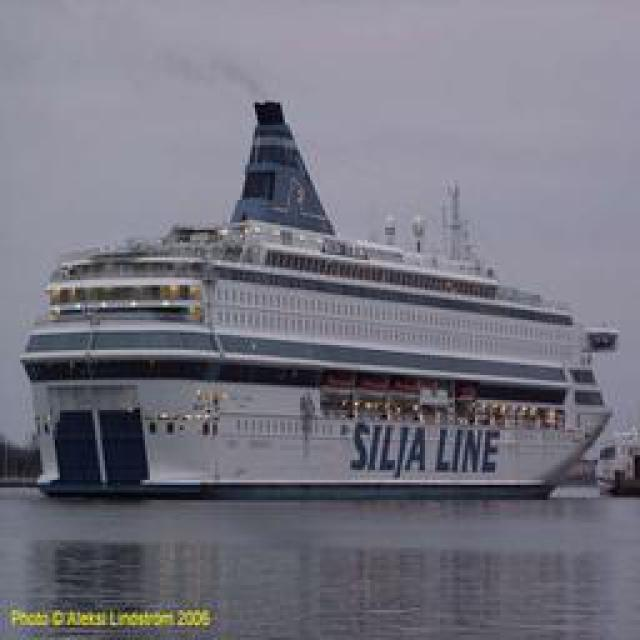Ship: (26, 102, 619, 485)
